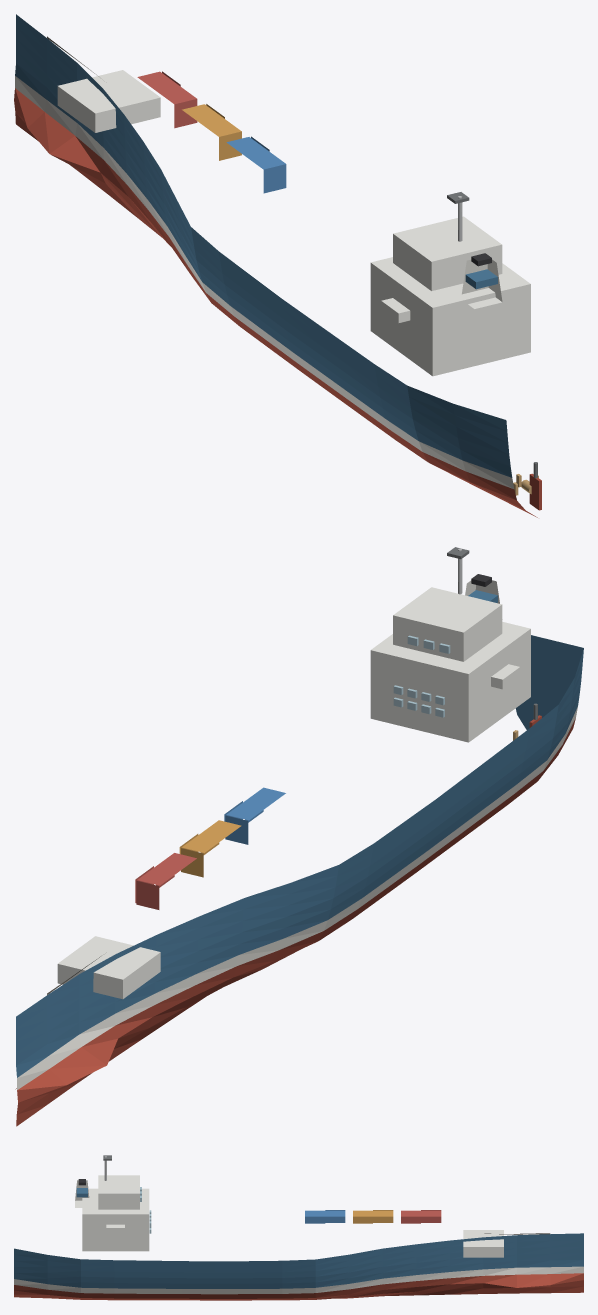
Rendered from cargo_lod2.glb.
3 views of the same model, one above another, from view 1: azimuth 30°, elevation 25°; view 2: azimuth 150°, elevation 25°; view 3: azimuth 270°, elevation 25° (orthographic). The views are drawn at different scales.
Parts seen in each view (by area): view 1: ship; view 2: ship; view 3: ship.
Part boxes in pixels (x1,y1,x2,y2): ship: (14, 14, 541, 517); ship: (15, 547, 583, 1126); ship: (14, 1155, 583, 1300).
Bounding box in the file's own units: 0.6634 × 1.06 × 3.92.
